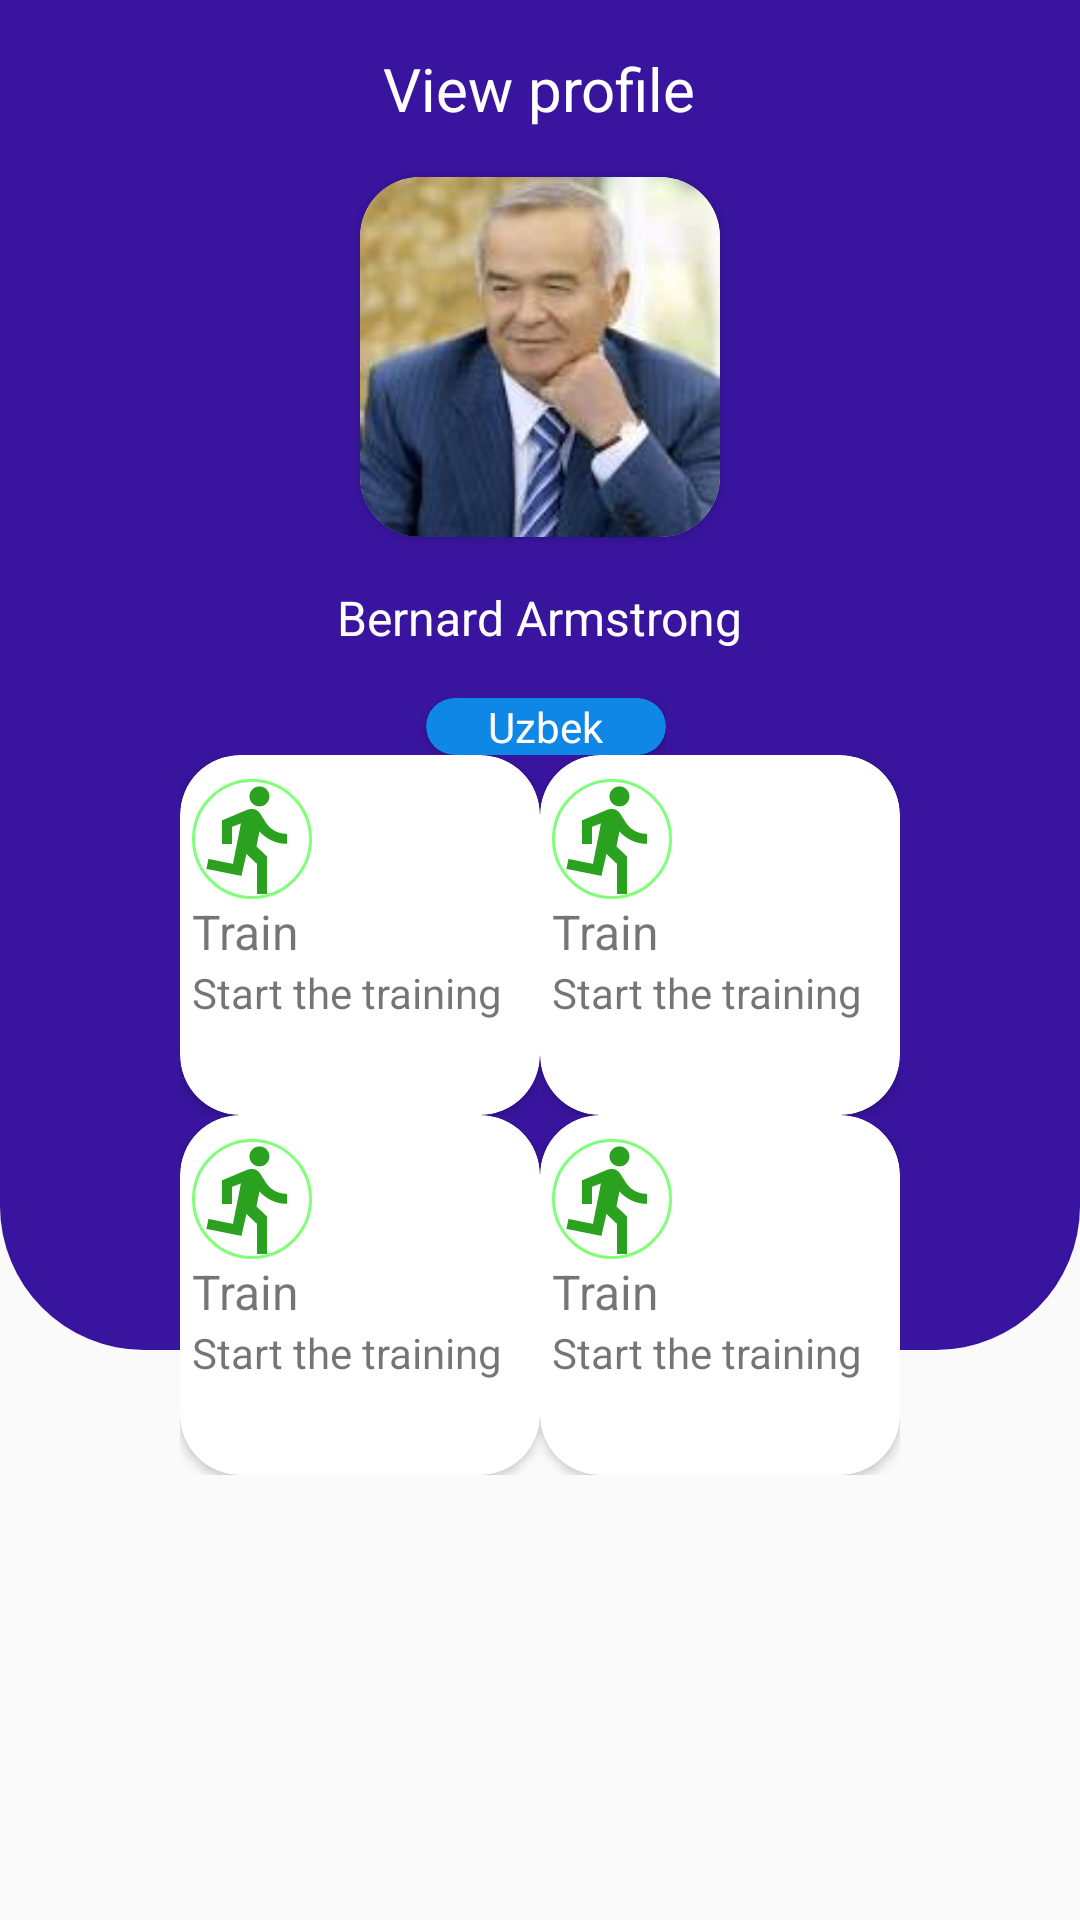

Icon bounding boxes for this 1080×1920 phone screenshot, format (x1, y1, x2, y2):
directions run: (192, 779, 312, 899), (552, 779, 672, 899), (192, 1139, 312, 1259), (552, 1139, 672, 1259)
